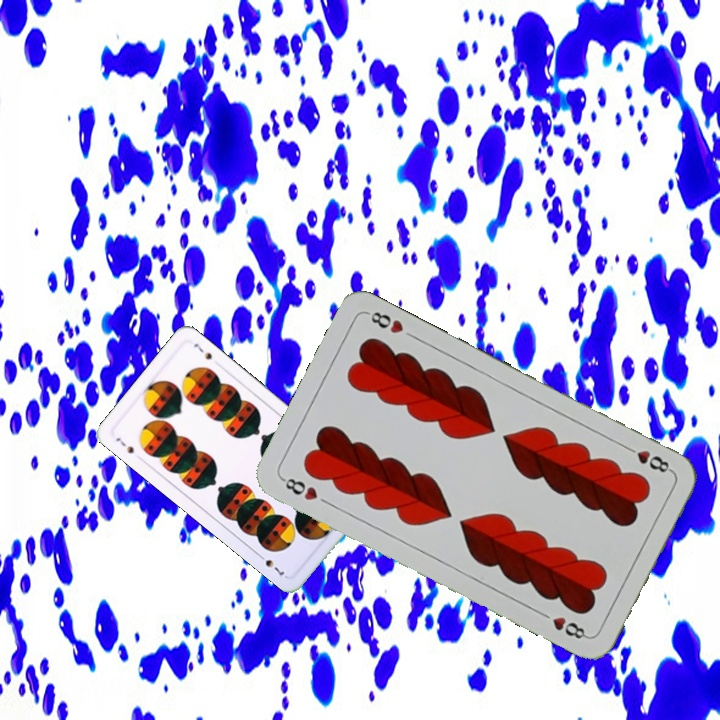H8: (620, 441, 675, 476), (277, 473, 321, 503)
S7: (111, 433, 137, 456)
